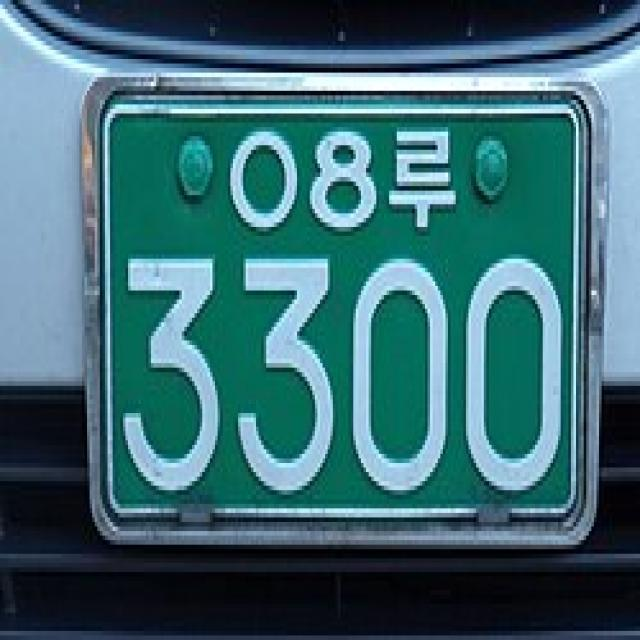car: (55, 43, 621, 587)
